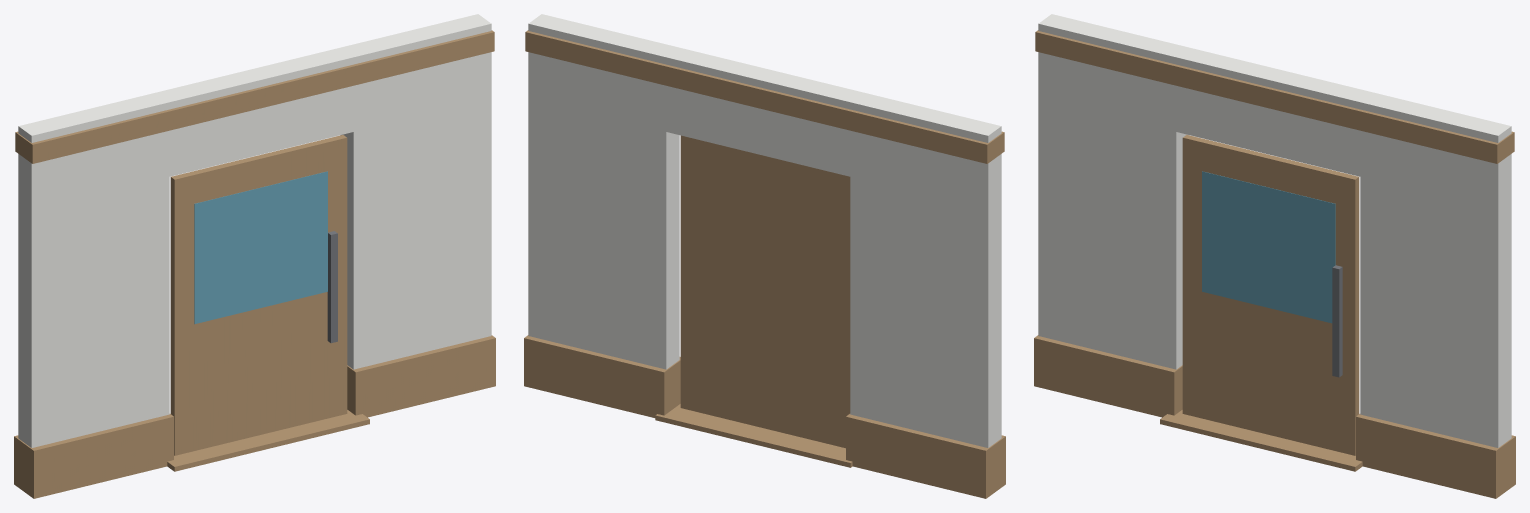
The model's file is golf-course-and-clubhouse-clubhouse-door-bay-91af818a__33494.glb.
3 views of the same model, side by side, from view 1: azimuth 30°, elevation 25°; view 2: azimuth 150°, elevation 25°; view 3: azimuth 330°, elevation 25° (orthographic).
Visible parts, largest first — view 1: clubhouse-door-bay, door/timber, door/water, door/charcoal; view 2: clubhouse-door-bay, door/timber; view 3: clubhouse-door-bay, door/timber, door/water, door/charcoal.
Part boxes in pixels (x1,y1,x2,y2): clubhouse-door-bay: (14, 14, 495, 498); door/timber: (170, 135, 347, 455); door/water: (194, 171, 327, 324); door/charcoal: (327, 231, 337, 343); clubhouse-door-bay: (524, 14, 1005, 498); door/timber: (680, 135, 850, 448); clubhouse-door-bay: (1034, 14, 1515, 498); door/timber: (1182, 135, 1359, 455); door/water: (1202, 171, 1335, 323); door/charcoal: (1332, 265, 1342, 377).
Size of the model in its own units: 4.02 by 3 by 0.4402.
